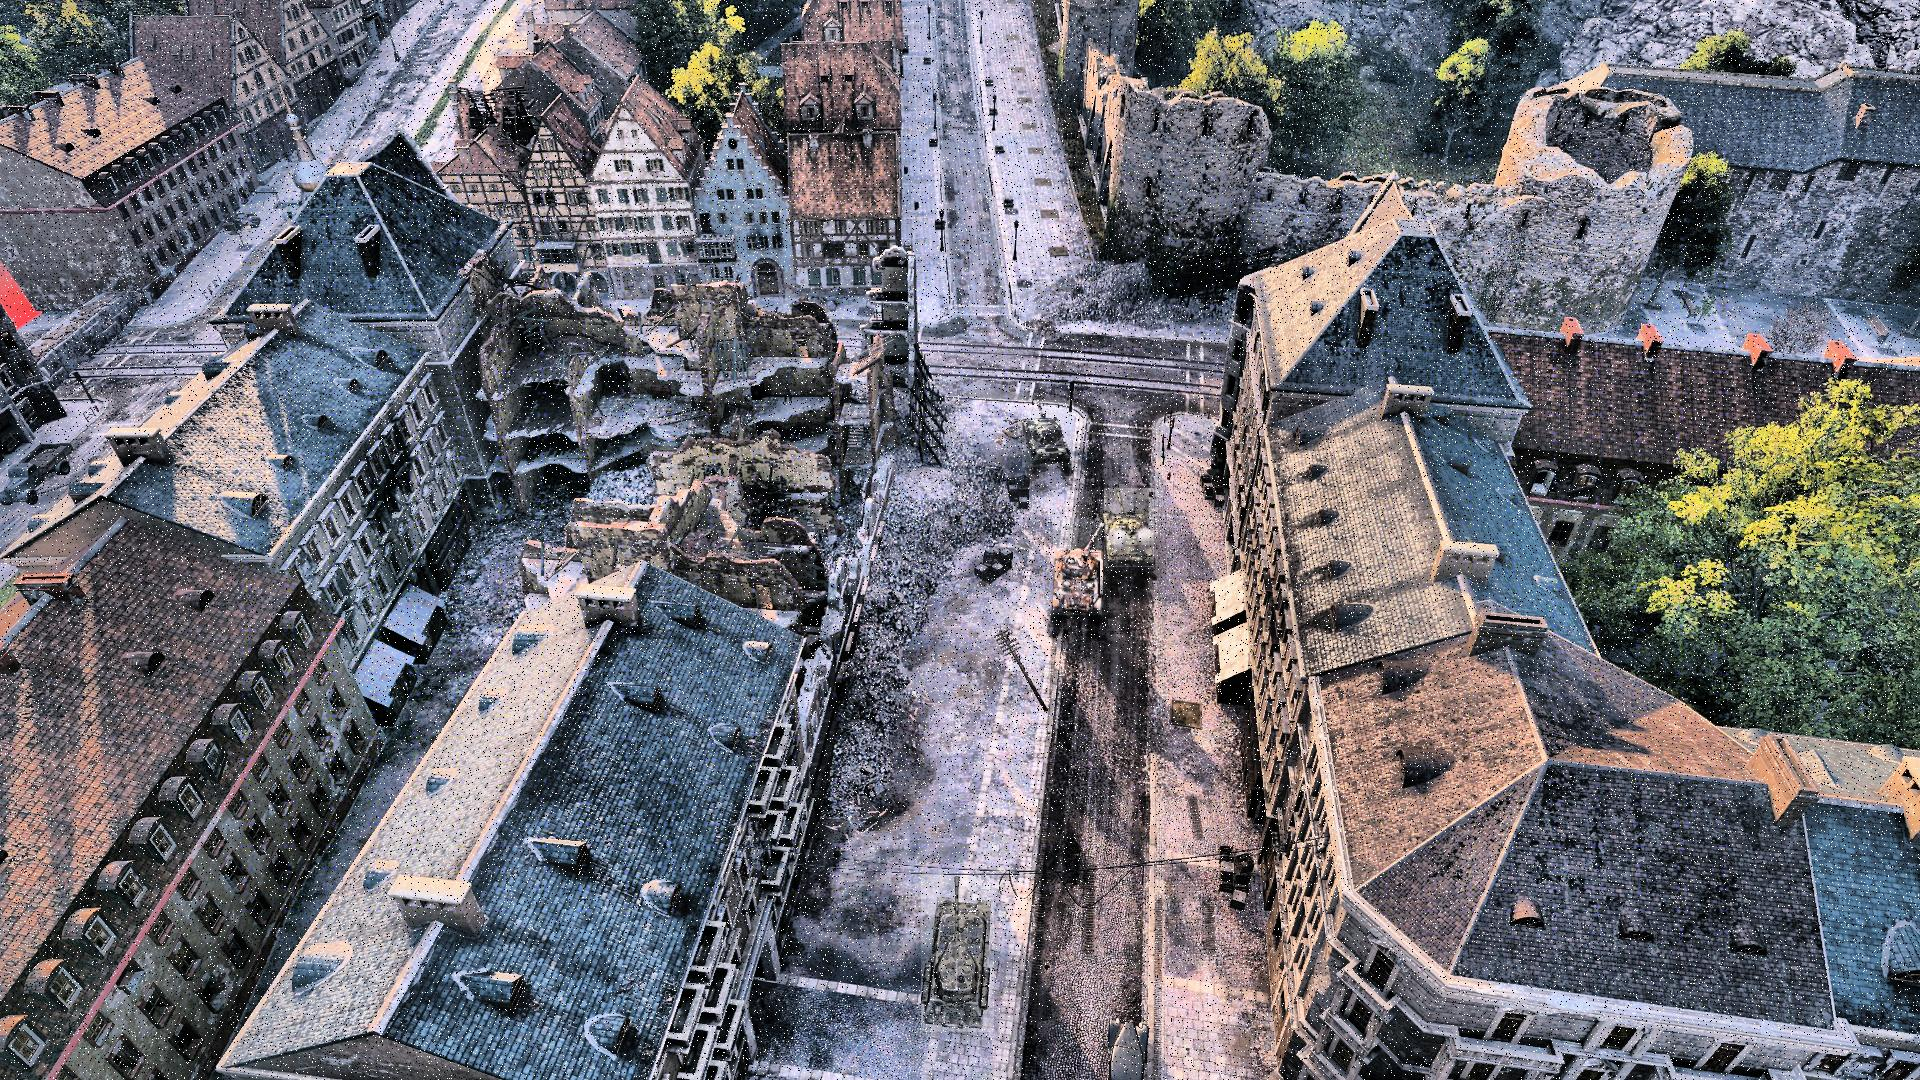military-vehicle: (922, 876, 996, 1033), (1054, 518, 1102, 616), (1105, 488, 1155, 567), (1022, 401, 1073, 467)
